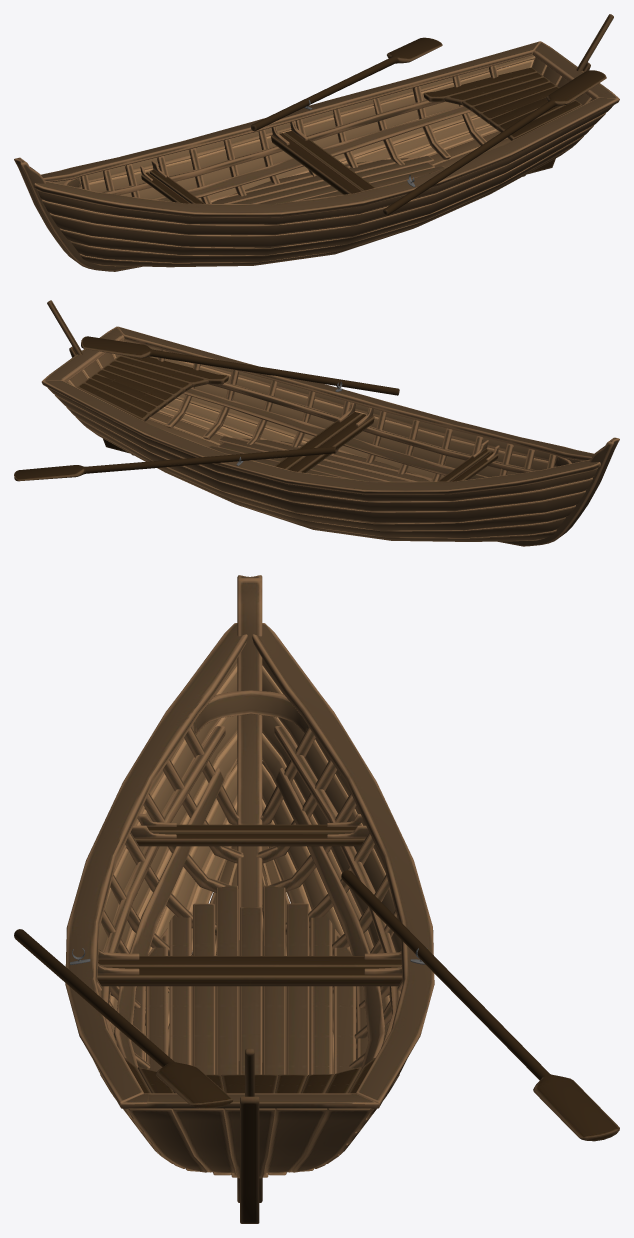
The model's file is boat.glb.
3 views of the same model, one above another, from view 1: azimuth 30°, elevation 25°; view 2: azimuth 150°, elevation 25°; view 3: azimuth 270°, elevation 25° (orthographic). The views are drawn at different scales.
Visible parts, largest first — view 1: weigh_low, realize_low, opera_low, body_low, crossing_low, burst_low, agree_low, calendar_low, precedent_low, traction_low, surgeon_low, transition_low (+18 smaller); view 2: weigh_low, realize_low, opera_low, body_low, crossing_low, burst_low, agree_low, precedent_low, transition_low, calendar_low, traction_low, surgeon_low (+19 smaller); view 3: weigh_low, agree_low, calendar_low, photography_low, designer_low, transition_low, nose_low, ritual_low, traction_low, protection_low, realize_low, wagon_low (+21 smaller).
Boxes of the visible parts, left/top/right/bottom form: weigh_low: left=34, top=41, right=619, bottom=217; realize_low: left=42, top=59, right=605, bottom=235; opera_low: left=49, top=101, right=593, bottom=247; body_low: left=37, top=55, right=613, bottom=224; crossing_low: left=60, top=112, right=583, bottom=255; burst_low: left=70, top=117, right=573, bottom=262; agree_low: left=80, top=65, right=498, bottom=203; calendar_low: left=154, top=106, right=471, bottom=201; precedent_low: left=383, top=70, right=606, bottom=215; traction_low: left=101, top=99, right=445, bottom=195; surgeon_low: left=80, top=125, right=555, bottom=267; transition_low: left=251, top=37, right=442, bottom=131; weigh_low: left=42, top=326, right=600, bottom=494; realize_low: left=55, top=356, right=592, bottom=511; opera_low: left=66, top=384, right=585, bottom=523; body_low: left=47, top=339, right=597, bottom=501; crossing_low: left=75, top=393, right=575, bottom=530; burst_low: left=86, top=398, right=565, bottom=537; agree_low: left=157, top=349, right=556, bottom=481; precedent_low: left=81, top=336, right=399, bottom=395; transition_low: left=14, top=446, right=335, bottom=481; calendar_low: left=183, top=388, right=488, bottom=479; traction_low: left=208, top=382, right=537, bottom=473; surgeon_low: left=112, top=407, right=556, bottom=541; weigh_low: left=65, top=623, right=434, bottom=1108; agree_low: left=97, top=727, right=402, bottom=1068; calendar_low: left=114, top=767, right=385, bottom=1067; photography_low: left=237, top=575, right=262, bottom=1202; designer_low: left=216, top=885, right=285, bottom=1074; transition_low: left=341, top=870, right=619, bottom=1141; nose_low: left=193, top=903, right=308, bottom=1075; ritual_low: left=97, top=966, right=402, bottom=986; traction_low: left=99, top=726, right=400, bottom=1045; protection_low: left=169, top=912, right=332, bottom=1074; realize_low: left=94, top=665, right=405, bottom=1131; wagon_low: left=172, top=1108, right=327, bottom=1172.
Size of the model in its own units: 132 by 31.24 by 70.69.
Materials: 1 (1 with a texture image).
